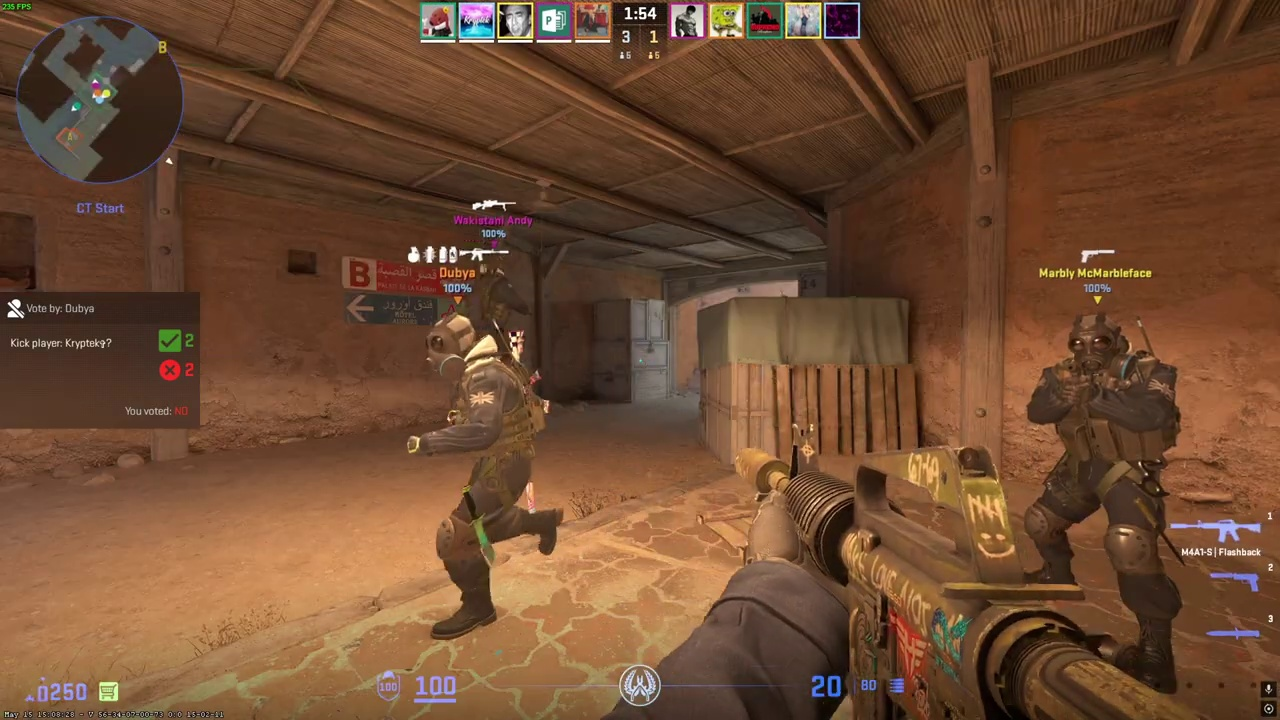CT: (1023, 314, 1182, 682), (420, 312, 553, 639)
